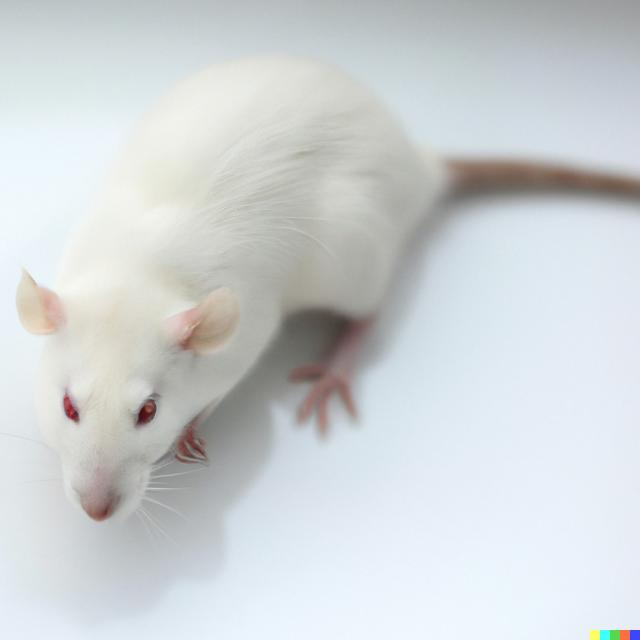rodents: (13, 34, 436, 532)
